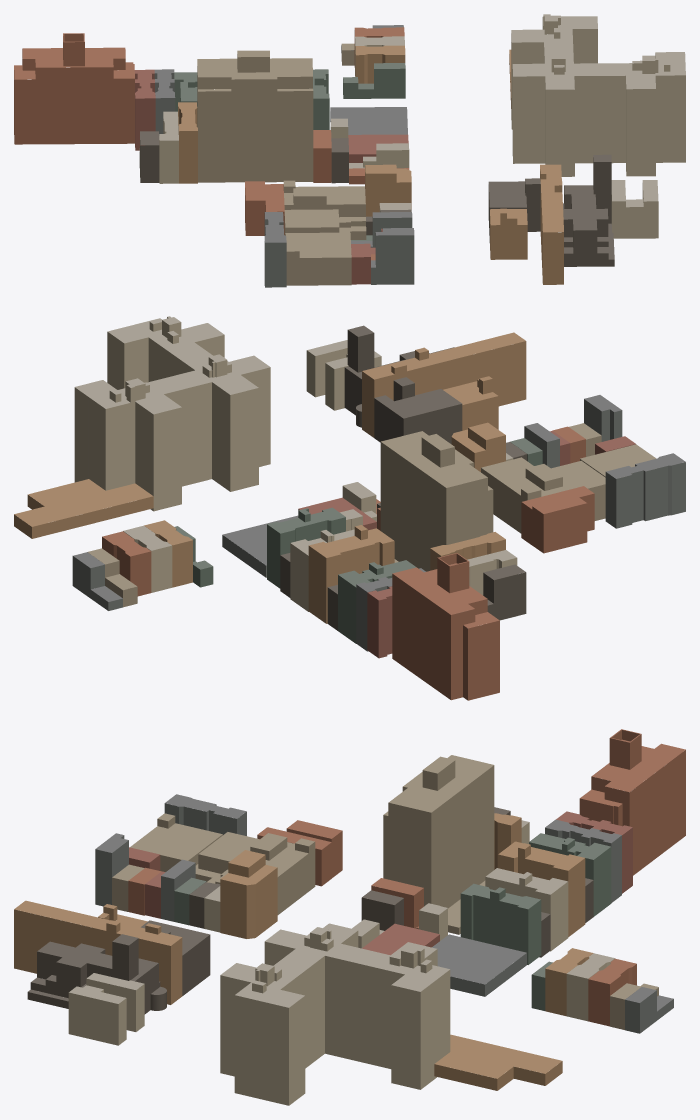
File: tile-6_-1.glb
3 views of the same model, one above another, from view 1: azimuth 30°, elevation 25°; view 2: azimuth 150°, elevation 25°; view 3: azimuth 270°, elevation 25° (orthographic). The views are drawn at different scales.
Visible parts, largest first — view 1: wall, roof; view 2: wall, roof; view 3: wall, roof.
Part boxes in pixels (x1,y1,x2,y2): wall: (14,16,685,287); roof: (14,14,685,267); wall: (14,317,685,700); roof: (14,316,685,628); wall: (14,730,685,1105); roof: (14,729,685,1078).
Bounding box in the file's own units: 233 × 54.55 × 236.
